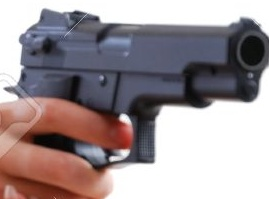pistol: (1, 1, 269, 183)
